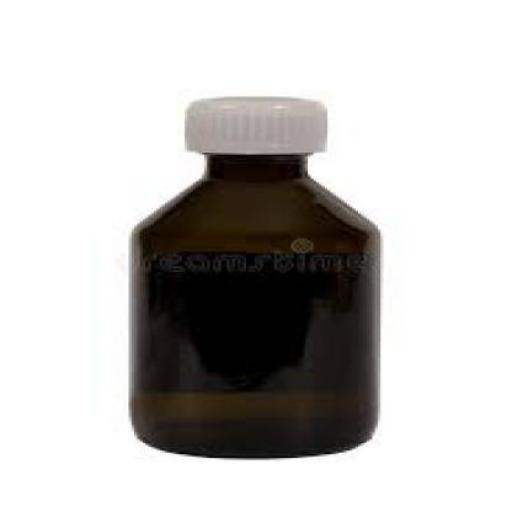glass: (126, 153, 376, 454)
plastic: (184, 95, 330, 156)
